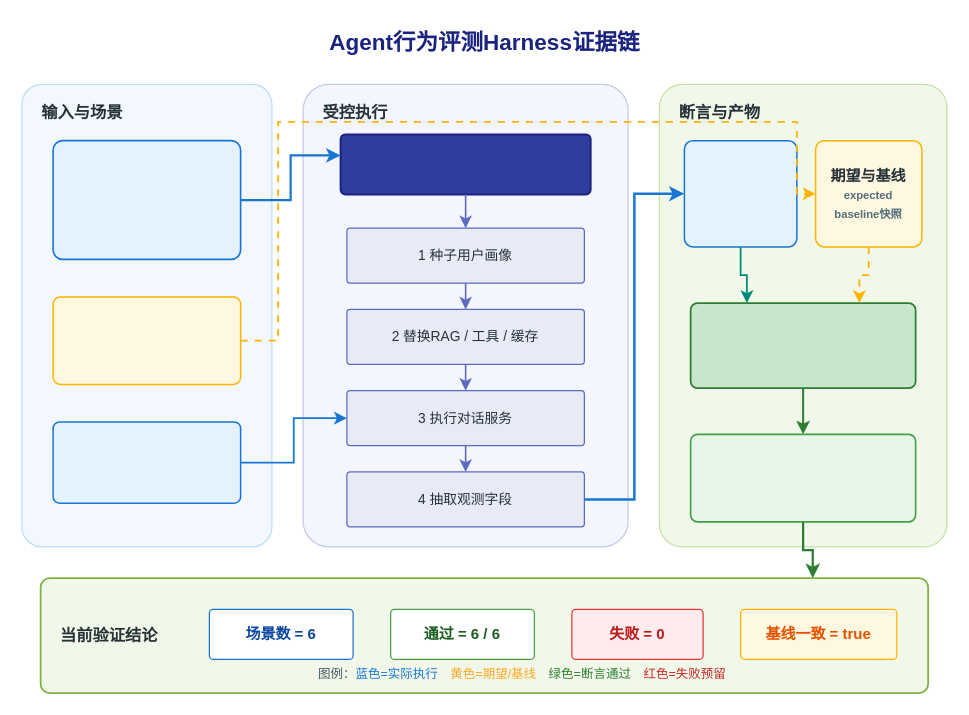
Some shapes in this 969 by 715 pixel diagram are drawn without their labels. Each missing label, with the centre of its shape:
场景清单 6类关键语义路径 急症 / 报告 / 趋势 / 用药 证据不足 / 工具失败: [146,199]
期望断言 车道 / 裁决 / 证据 / 接管: [146,340]
结构化断言 逐字段比较: [802,345]
行为评测 Harness: [465,164]
观测输出 lane / verdict evidence / takeover: [740,193]
评测产物 results.json failure_samples.json: [802,477]
运行入口 pytest + CLI: [146,461]
